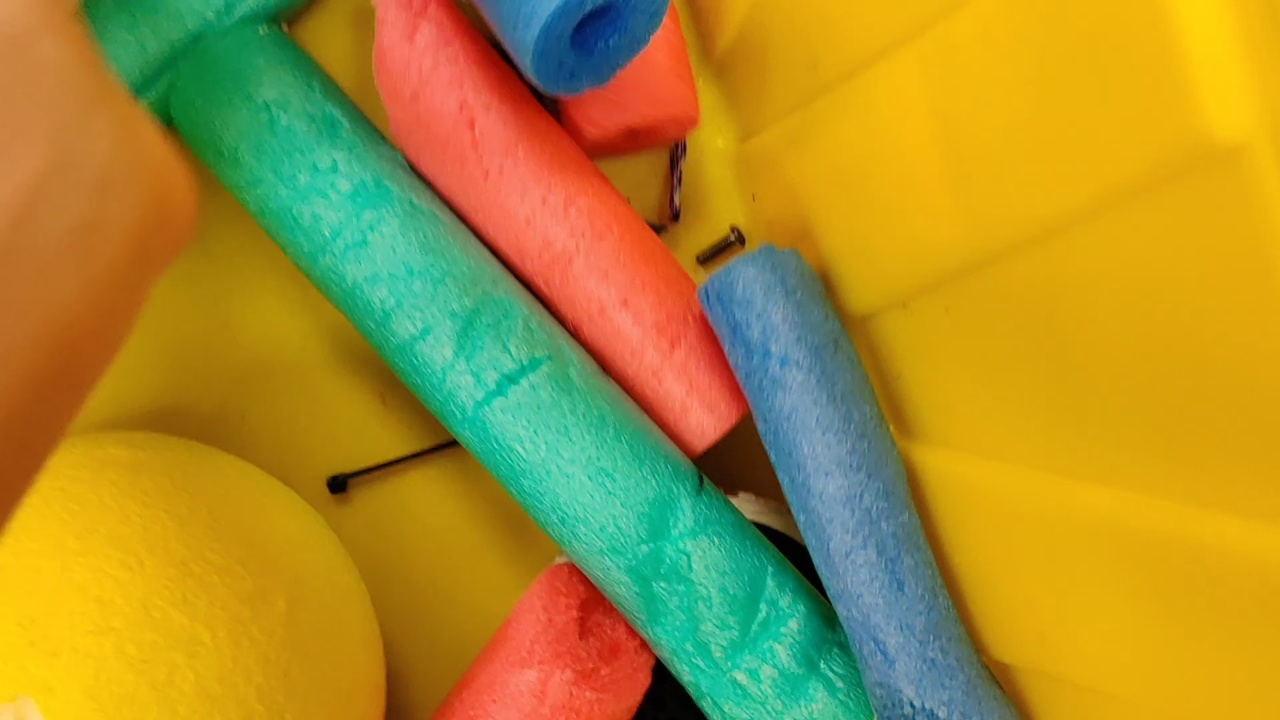Ball: (1, 429, 382, 718)
